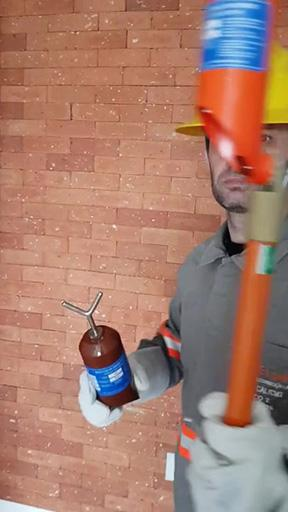Detector_Tensao_Contato: (61, 290, 138, 409)
